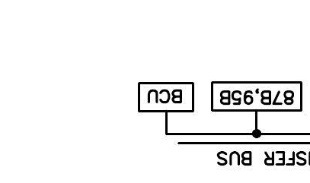BCU: (137, 81, 195, 113)
